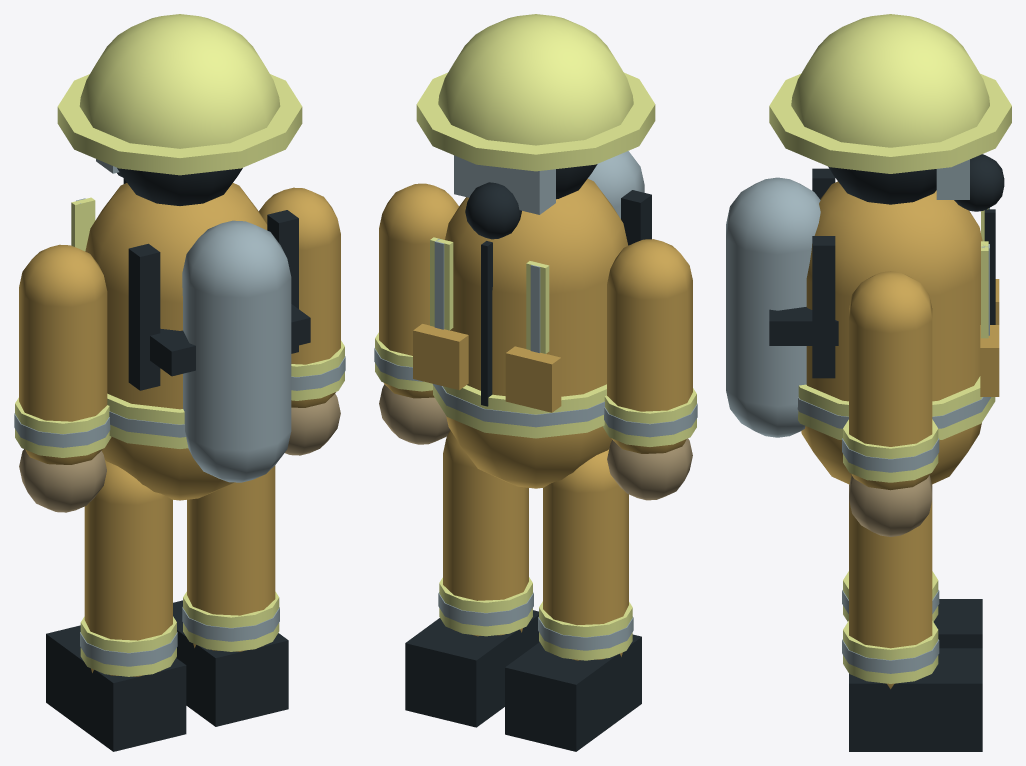
File: geo-commander.glb
3 renders of one model, left to right at view 1: azimuth 30°, elevation 25°; view 2: azimuth 150°, elevation 25°; view 3: azimuth 270°, elevation 25°, orthographic. The views are drawn at different scales.
Size of the model in its own units: 0.872 by 1.81 by 0.6836.
